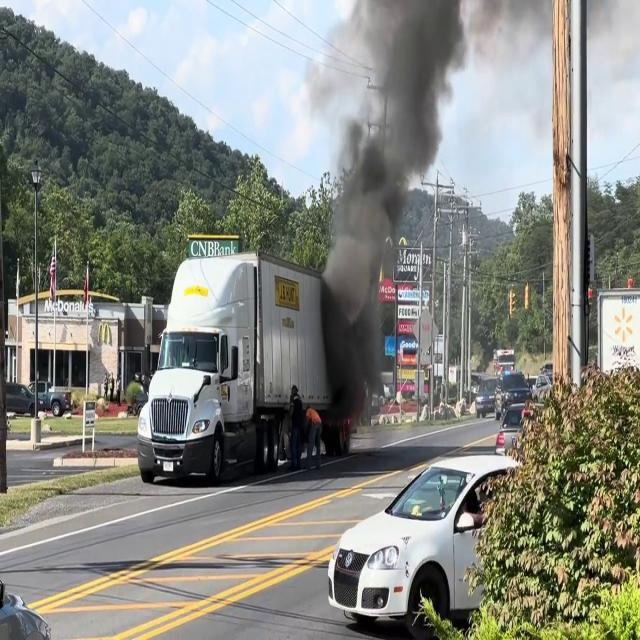Smoke: (312, 0, 474, 422)
